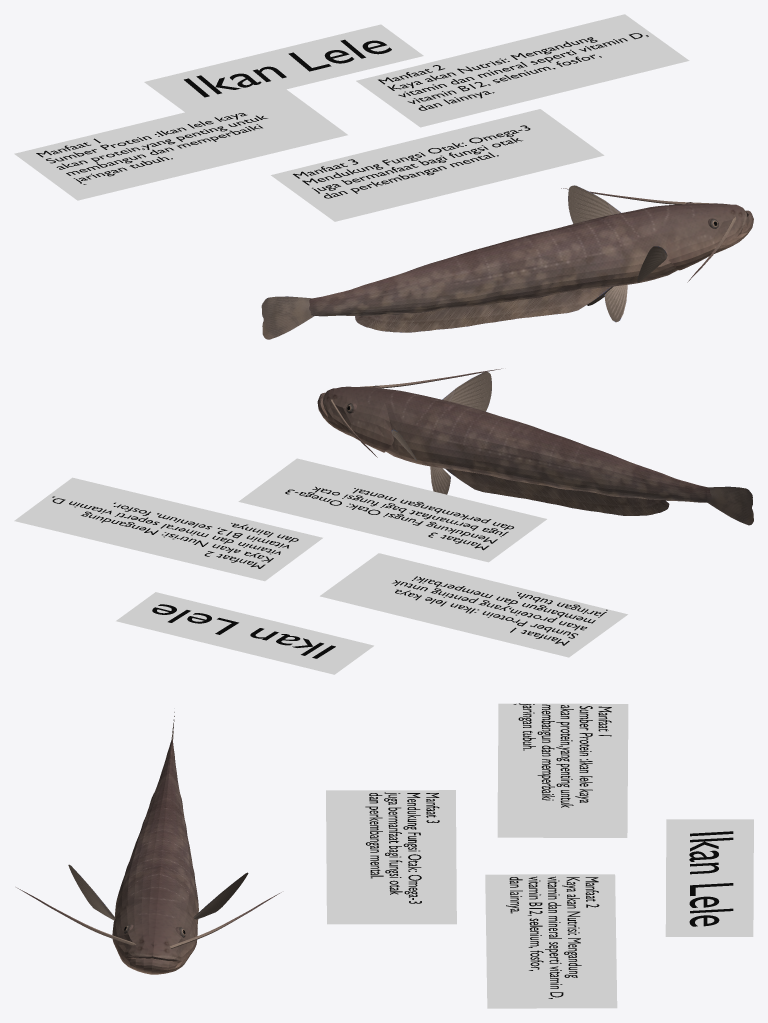
The model's file is Lele.glb.
3 views of the same model, one above another, from view 1: azimuth 30°, elevation 25°; view 2: azimuth 150°, elevation 25°; view 3: azimuth 270°, elevation 25° (orthographic). The views are drawn at different scales.
Visible parts, largest first — view 1: www.3dliuliu.com-模型不难找, manfaat1, manfaat3 plane, manfaat2 plane, Plane, manfaat2, manfaat1.001, manfaat3`, Text; view 2: www.3dliuliu.com-模型不难找, manfaat3 plane, manfaat2 plane, manfaat1, Plane, manfaat1.001, manfaat2, manfaat3`, Text; view 3: manfaat2 plane, manfaat3 plane, manfaat1, www.3dliuliu.com-模型不难找, Plane, manfaat2, manfaat1.001, manfaat3`, Text.
Boxes of the visible parts, bbox=[...] form: www.3dliuliu.com-模型不难找: bbox=[261, 185, 753, 339]; manfaat1: bbox=[14, 88, 347, 200]; manfaat3 plane: bbox=[271, 109, 604, 221]; manfaat2 plane: bbox=[356, 14, 689, 127]; Plane: bbox=[144, 24, 423, 112]; manfaat2: bbox=[378, 33, 648, 110]; manfaat1.001: bbox=[36, 113, 267, 184]; manfaat3`: bbox=[293, 125, 530, 198]; Text: bbox=[184, 39, 391, 97]; www.3dliuliu.com-模型不难找: bbox=[317, 368, 753, 525]; manfaat3 plane: bbox=[238, 458, 546, 562]; manfaat2 plane: bbox=[14, 477, 322, 581]; manfaat1: bbox=[320, 553, 627, 657]; Plane: bbox=[116, 592, 373, 674]; manfaat1.001: bbox=[392, 576, 607, 645]; manfaat2: bbox=[52, 496, 298, 568]; manfaat3`: bbox=[285, 486, 513, 550]; Text: bbox=[152, 604, 335, 658]; manfaat2 plane: bbox=[485, 874, 617, 1008]; manfaat3 plane: bbox=[326, 790, 456, 924]; manfaat1: bbox=[497, 703, 628, 837]; www.3dliuliu.com-模型不难找: bbox=[16, 712, 281, 974]; Plane: bbox=[665, 819, 753, 936]; manfaat2: bbox=[506, 876, 599, 998]; manfaat1.001: bbox=[513, 703, 611, 807]; manfaat3`: bbox=[365, 792, 439, 903]; Text: bbox=[689, 831, 733, 926].
Bounding box in the file's own units: 4.96 × 0.7707 × 5.16.
5 materials, 1 textured.
